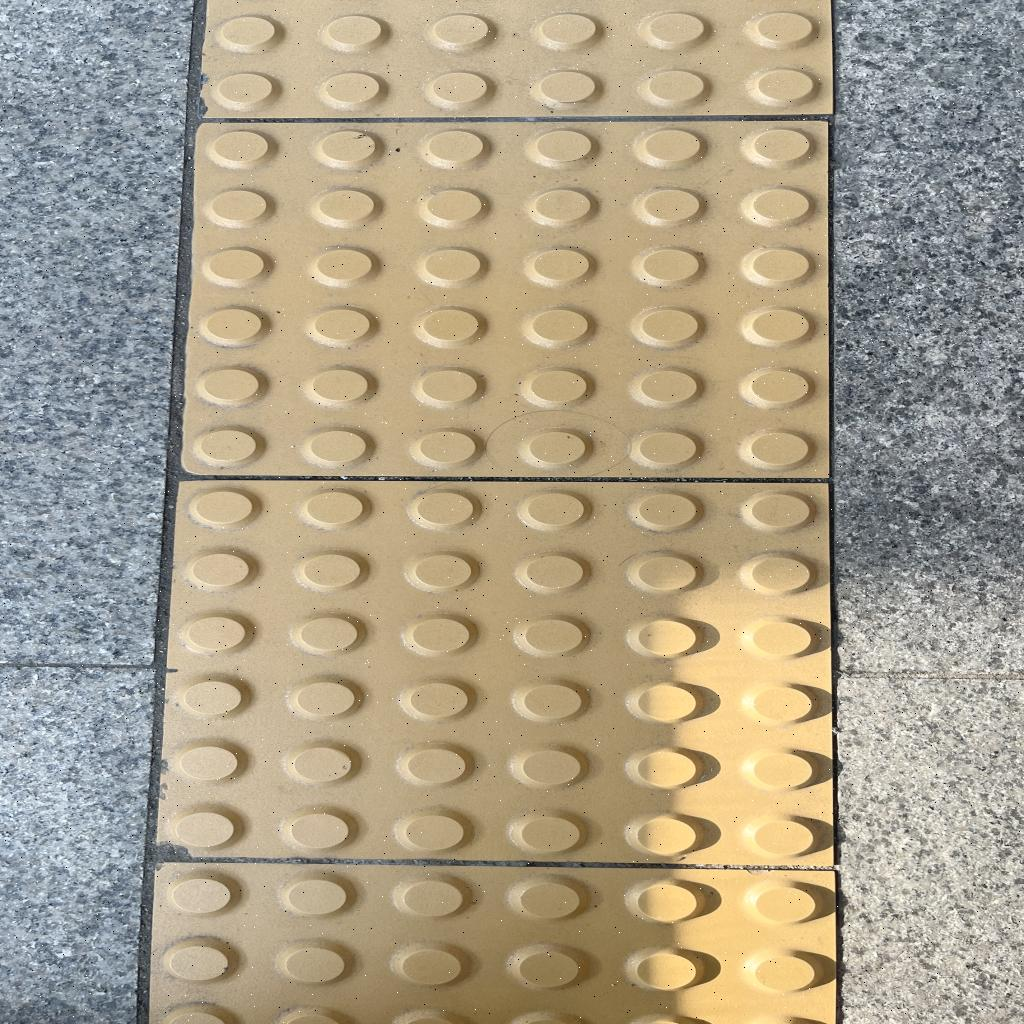Stop block normal: (200, 124, 825, 475)
